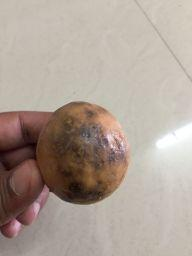lemon: (35, 98, 131, 208)
